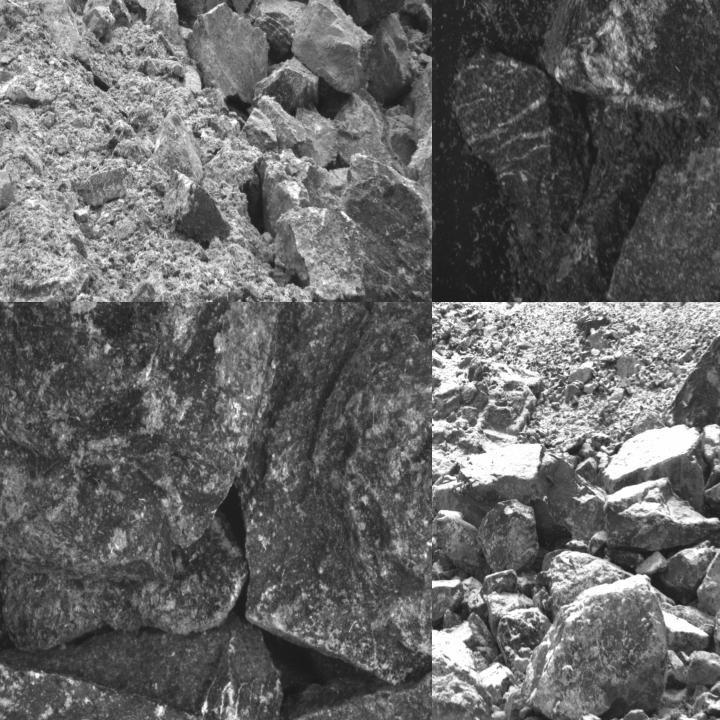stone: (0, 302, 288, 583), (238, 302, 431, 684), (0, 510, 246, 650), (0, 618, 288, 719), (605, 99, 719, 301), (541, 0, 719, 121), (523, 575, 670, 719), (432, 446, 605, 545), (451, 48, 548, 209), (339, 153, 431, 301), (282, 637, 431, 719), (604, 419, 706, 511), (278, 200, 369, 301), (187, 3, 270, 105), (290, 0, 377, 95), (597, 480, 719, 546), (337, 84, 415, 174), (672, 302, 719, 445), (544, 550, 626, 619), (432, 630, 492, 719), (144, 104, 203, 194), (162, 169, 231, 242), (163, 169, 230, 241), (478, 501, 542, 576), (499, 607, 555, 681), (366, 13, 410, 103), (253, 56, 319, 113), (432, 510, 482, 575), (251, 0, 306, 59), (661, 538, 716, 597), (405, 22, 431, 144), (139, 0, 188, 63), (409, 103, 431, 243), (257, 96, 306, 150), (296, 109, 338, 166), (325, 0, 412, 27), (78, 164, 128, 208), (662, 613, 711, 651), (694, 544, 719, 616), (238, 108, 277, 154), (683, 649, 719, 692), (432, 580, 463, 626), (699, 421, 719, 487), (83, 0, 131, 24), (479, 570, 516, 601), (83, 7, 119, 37), (705, 457, 719, 513), (401, 0, 427, 14)
